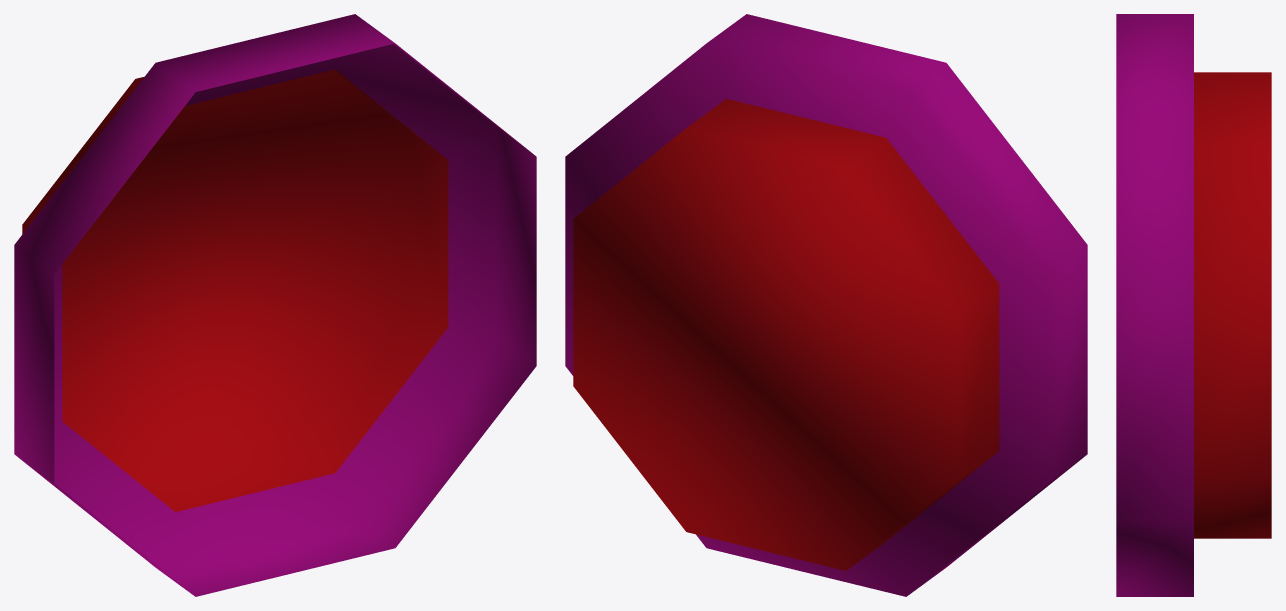
The model's file is Controls_Button_01.fbx.
3 views of the same model, side by side, from view 1: azimuth 30°, elevation 25°; view 2: azimuth 150°, elevation 25°; view 3: azimuth 270°, elevation 25° (orthographic). The views are drawn at different scales.
Parts seen in each view (by area): view 1: SubwayCart_01_Controls_Button_low; view 2: SubwayCart_01_Controls_Button_low; view 3: SubwayCart_01_Controls_Button_low.
Boxes of the visible parts, bbox=[...] form: SubwayCart_01_Controls_Button_low: bbox=[14, 14, 536, 596]; SubwayCart_01_Controls_Button_low: bbox=[565, 14, 1087, 596]; SubwayCart_01_Controls_Button_low: bbox=[1116, 14, 1271, 596].
Size of the model in its own units: 0.0346 by 0.0346 by 0.01.
